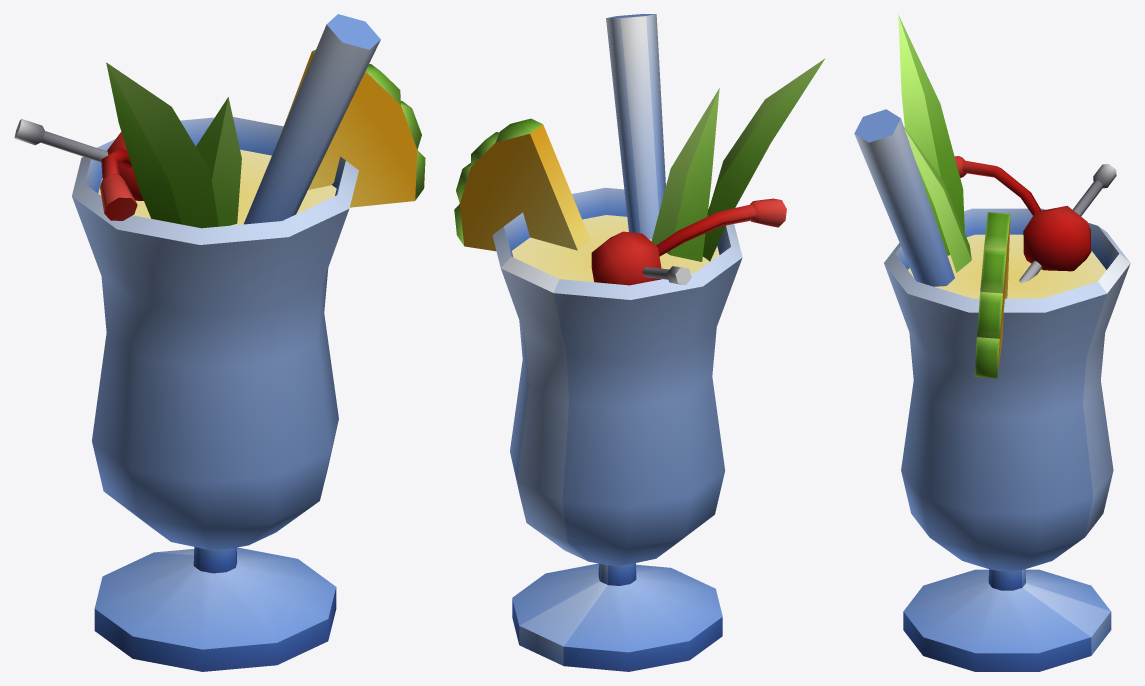
The model's file is m_PinaColada01.fbx.
3 views of the same model, side by side, from view 1: azimuth 30°, elevation 25°; view 2: azimuth 150°, elevation 25°; view 3: azimuth 270°, elevation 25° (orthographic). The views are drawn at different scales.
Parts seen in each view (by area): view 1: m_PinaColada01; view 2: m_PinaColada01; view 3: m_PinaColada01.
Part boxes in pixels (x1,y1,x2,y2): m_PinaColada01: (14, 14, 425, 671); m_PinaColada01: (454, 14, 825, 671); m_PinaColada01: (854, 15, 1130, 671).
Bounding box in the file's own units: 17.2 × 28.93 × 13.3.
